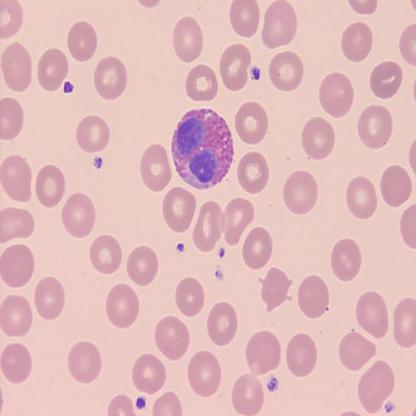Eosinophil: (170, 108, 238, 188)
